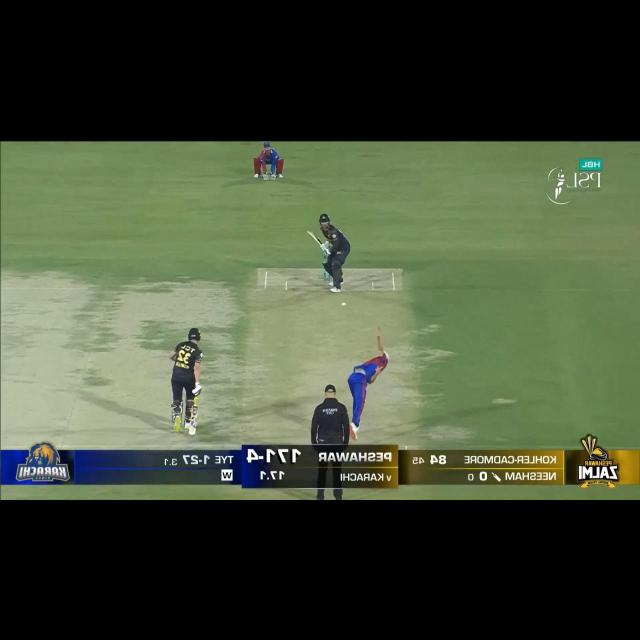bat: (187, 402, 202, 436), (306, 230, 323, 246)
toe: (187, 432, 196, 438), (306, 230, 313, 237)
